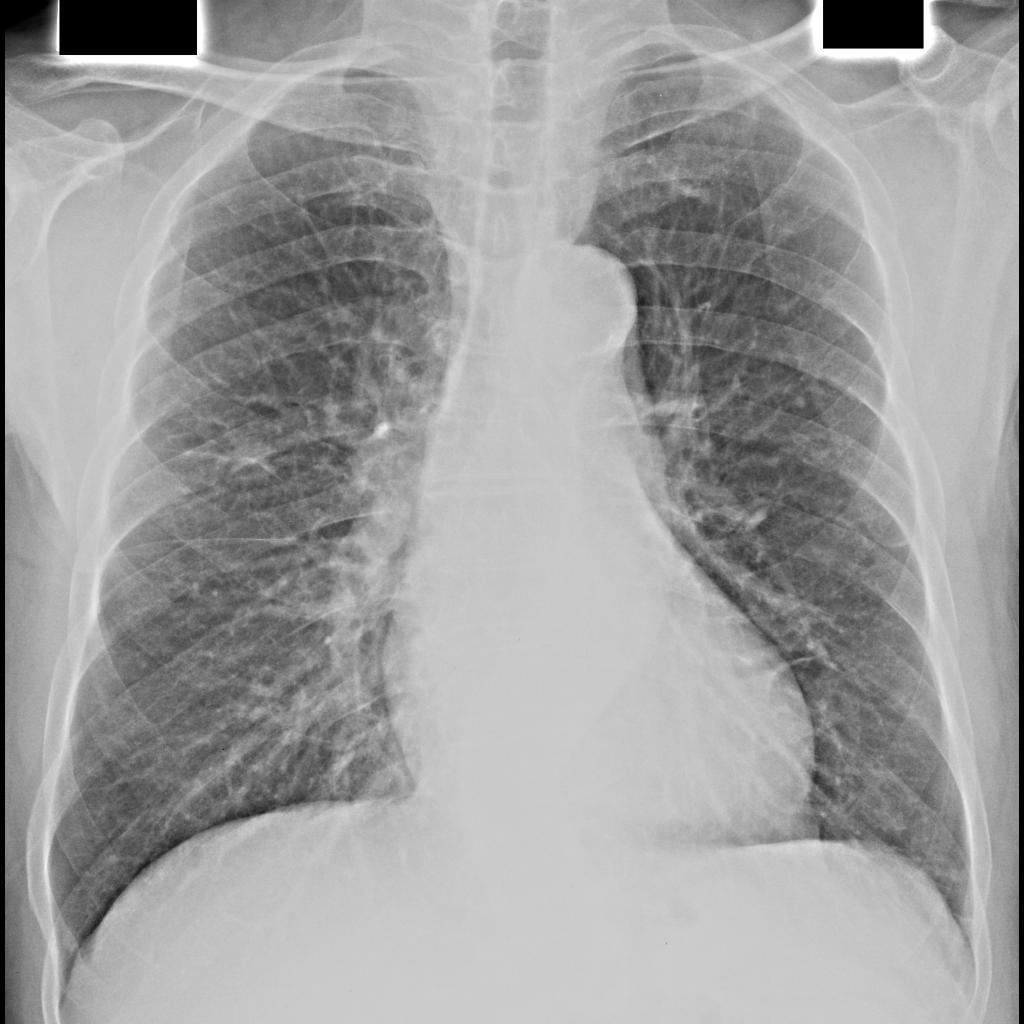Nodule: (237, 443, 271, 477)
